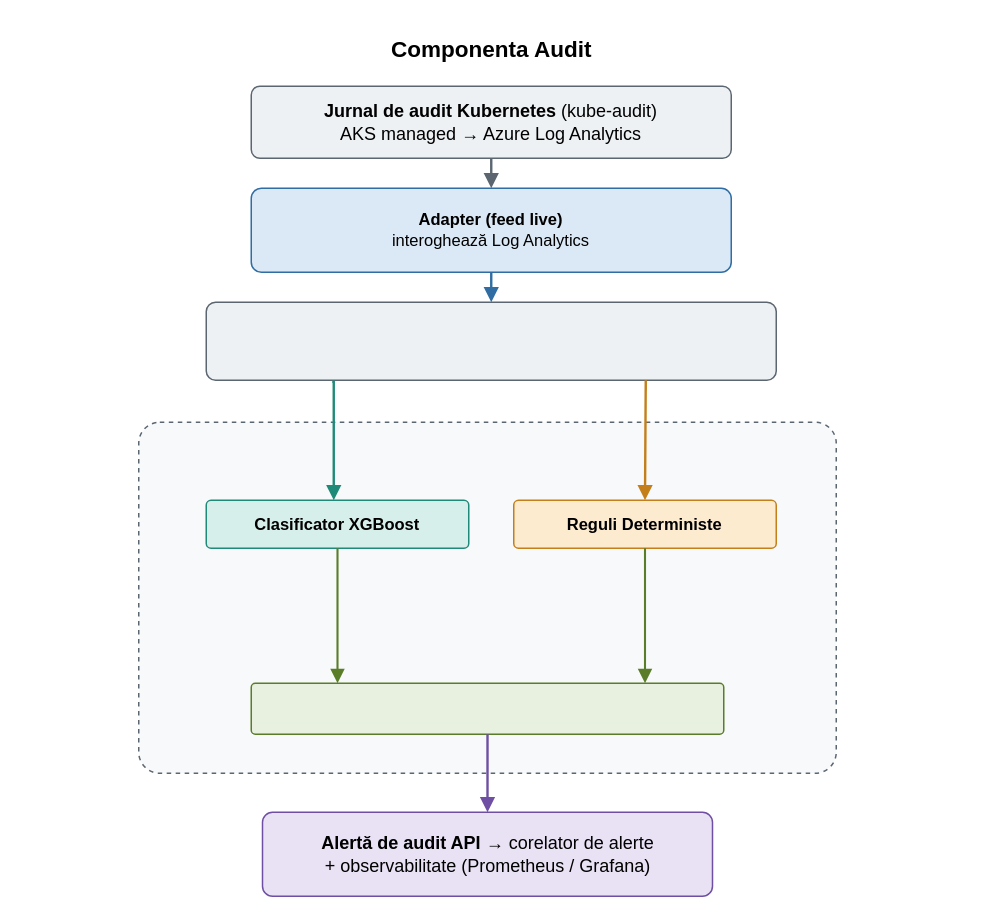
The diagram is 981 pixels wide and 923 high, and some of its shapes have lost their labels. The shapes that lost their labels are listed below. From the top down, each one's centre as x and y in pixels, then its label:
the point at 490,340: Preprocesare Standardizarea intrarilor
the point at 487,708: "OR" logic intre cele doua componente
